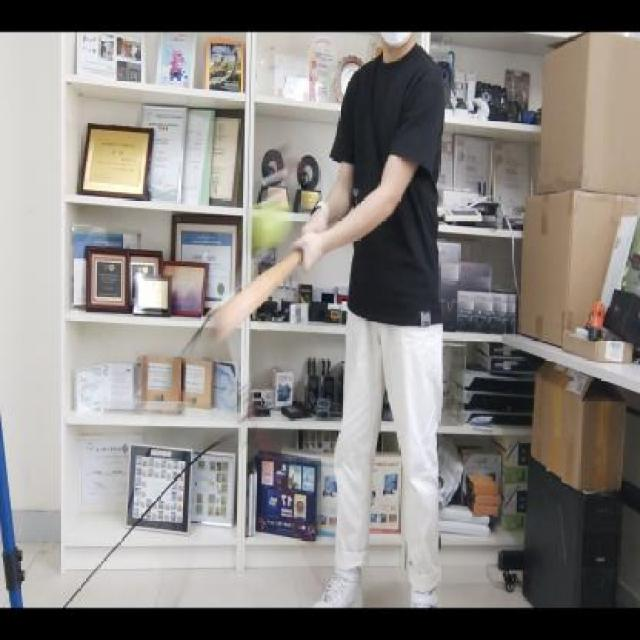baseball: (249, 201, 294, 256)
